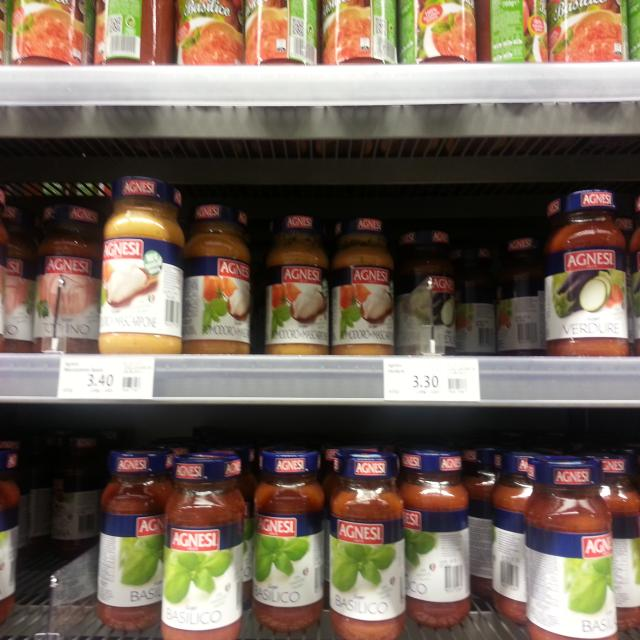Sauce: (99, 169, 184, 357), (164, 459, 247, 640), (540, 191, 631, 352), (328, 455, 405, 640), (256, 452, 324, 632), (97, 450, 164, 631), (400, 454, 470, 621), (34, 207, 106, 354), (182, 203, 250, 356), (268, 212, 329, 357), (330, 218, 392, 353), (394, 232, 452, 358), (4, 0, 97, 67), (99, 0, 175, 67), (544, 0, 626, 60), (246, 2, 322, 64), (324, 0, 400, 62), (401, 0, 478, 58), (180, 0, 246, 66), (476, 0, 551, 56)
